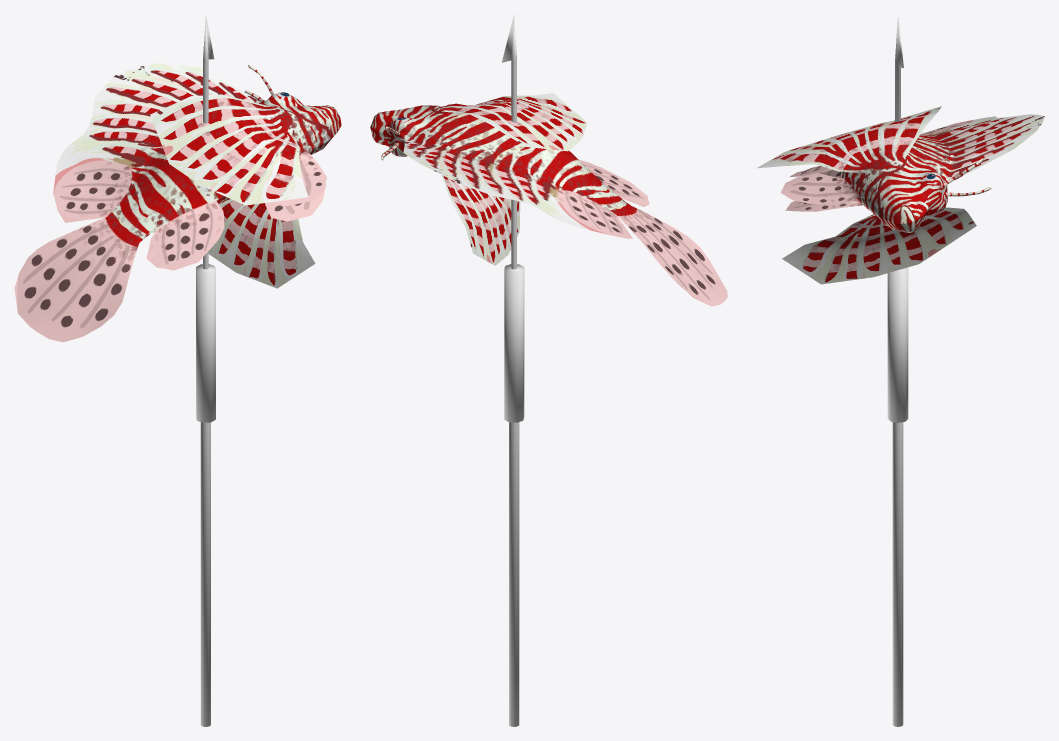
File: SpearedLionfish00.fbx
3 renders of one model, left to right at view 1: azimuth 30°, elevation 25°; view 2: azimuth 150°, elevation 25°; view 3: azimuth 270°, elevation 25°, orthographic.
Parts seen in each view (by area): view 1: speared_lionfish; view 2: speared_lionfish; view 3: speared_lionfish.
Boxes of the visible parts, x1,y1,x2,y2 form: speared_lionfish: [14, 15, 341, 726]; speared_lionfish: [370, 14, 727, 726]; speared_lionfish: [756, 15, 1044, 726].
Bounding box in the file's own units: 2.35 × 4.83 × 1.78.
